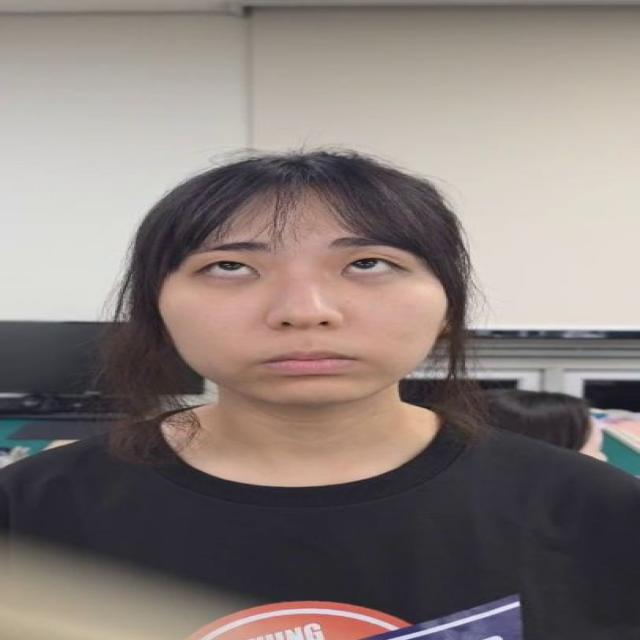eyes: (189, 254, 417, 282)
face: (158, 154, 451, 405)
iris_up: (348, 256, 382, 270), (210, 257, 243, 271)
